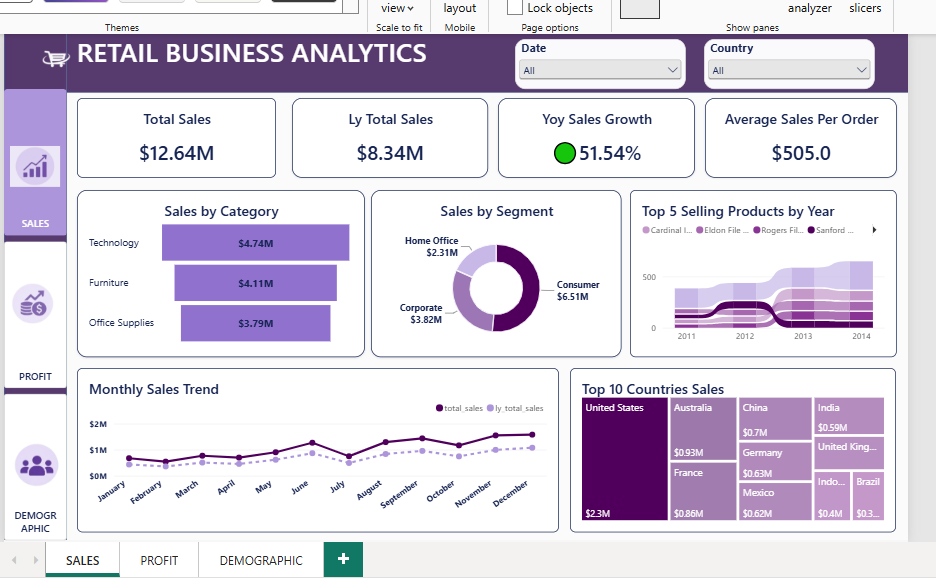

Layout of this report page (visuals, bound fields, positions):
{"tool":"powerbi","page":{"name":"SALES","canvas":[1280,720],"ordinal":0},"visuals":[{"type":"textbox","box":[102.9,0,608.6,78.6],"z":0},{"type":"image","box":[0,0,150.5,74],"z":1000},{"type":"pageNavigator","box":[0,78.6,89.2,640.8],"z":2000},{"type":"slicer","fields":{"Values":["date_table.Date"]},"box":[724.3,7.1,242.4,70.9],"z":3000},{"type":"slicer","fields":{"Values":["location_table.Country"]},"box":[992.1,7.1,242.4,70.9],"z":4000},{"type":"card","title":"Total Sales","fields":{"Values":["calculated_table.total_sales"]},"box":[103.5,90.7,282,113.4],"z":5000},{"type":"card","title":"Ly Total Sales","fields":{"Values":["calculated_table.ly_total_sales"]},"box":[408.2,90.7,277.8,113.4],"z":6000},{"type":"card","title":"Yoy Sales  Growth","fields":{"Values":["calculated_table.yoy_growth"]},"box":[700.2,90.7,279.2,113.4],"z":7000},{"type":"card","title":"Average Sales Per Order","fields":{"Values":["calculated_table.avg_sales_per_order"]},"box":[992.9,90.7,272,113.3],"z":8000},{"type":"funnel","title":"Sales by Category","fields":{"Category":["product_table.Category"],"Y":["calculated_table.total_sales"]},"box":[102.8,220.6,408,237.3],"z":9000},{"type":"donutChart","title":"Sales by Segment","fields":{"Category":["customer_table.Segment"],"Y":["calculated_table.total_sales"]},"box":[519.9,220.6,355.1,237.3],"z":10000},{"type":"treemap","title":"Top 10 Countries Sales","fields":{"Group":["location_table.Country"],"Values":["calculated_table.total_sales"]},"box":[802.5,473,462.4,232.7],"z":11000},{"type":"lineChart","title":"Monthly Sales Trend","fields":{"Category":["date_table.Date.Variation.Date Hierarchy.Month"],"Y":["calculated_table.total_sales","calculated_table.ly_total_sales"]},"box":[102.8,473,683.1,232.7],"z":12000},{"type":"ribbonChart","title":"Top 5 Selling Products by Year","fields":{"Category":["date_table.Date.Variation.Date Hierarchy.Year"],"Series":["product_table.Product Name"],"Y":["Sum(sales_table.Quantity)"]},"box":[887.1,220.6,377.8,237.3],"z":13000},{"type":"image","box":[8.3,90.8,70.8,194.2],"z":14000},{"type":"image","box":[7.5,517.5,75,187.5],"z":15000},{"type":"image","box":[5,285,70.8,194.2],"z":16000}]}

Visuals, with their boxes on the page's 1280x720 design canvas (x1, y1, x2, y2). These are canvas units, not pixel positions in the 936x578 screenshot, which may show the page scaled, cropped or inside an application window:
textbox: {"x1": 103, "y1": 0, "x2": 712, "y2": 79}
image: {"x1": 0, "y1": 0, "x2": 150, "y2": 74}
pageNavigator: {"x1": 0, "y1": 79, "x2": 89, "y2": 719}
slicer - date_table.Date: {"x1": 724, "y1": 7, "x2": 967, "y2": 78}
slicer - location_table.Country: {"x1": 992, "y1": 7, "x2": 1234, "y2": 78}
"Total Sales" card: {"x1": 104, "y1": 91, "x2": 386, "y2": 204}
"Ly Total Sales" card: {"x1": 408, "y1": 91, "x2": 686, "y2": 204}
"Yoy Sales  Growth" card: {"x1": 700, "y1": 91, "x2": 979, "y2": 204}
"Average Sales Per Order" card: {"x1": 993, "y1": 91, "x2": 1265, "y2": 204}
"Sales by Category" funnel: {"x1": 103, "y1": 221, "x2": 511, "y2": 458}
"Sales by Segment" donutChart: {"x1": 520, "y1": 221, "x2": 875, "y2": 458}
"Top 10 Countries Sales" treemap: {"x1": 802, "y1": 473, "x2": 1265, "y2": 706}
"Monthly Sales Trend" lineChart: {"x1": 103, "y1": 473, "x2": 786, "y2": 706}
"Top 5 Selling Products by Year" ribbonChart: {"x1": 887, "y1": 221, "x2": 1265, "y2": 458}
image: {"x1": 8, "y1": 91, "x2": 79, "y2": 285}
image: {"x1": 8, "y1": 518, "x2": 82, "y2": 705}
image: {"x1": 5, "y1": 285, "x2": 76, "y2": 479}
